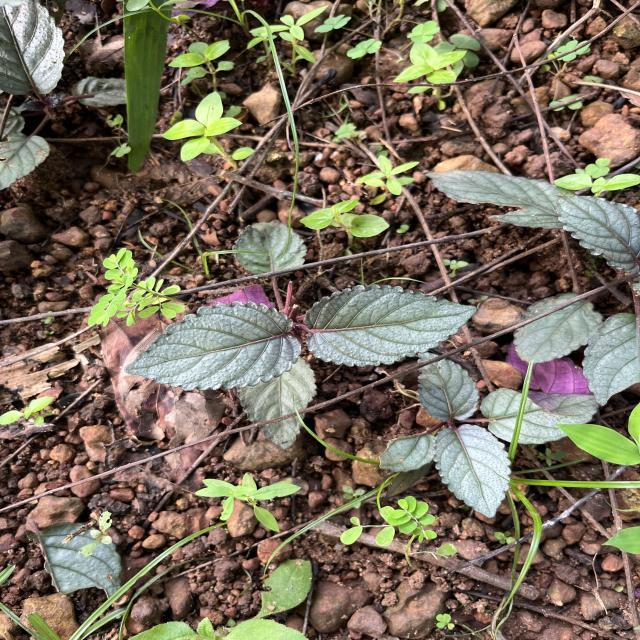Hemigraphis colorata: (122, 299, 304, 393), (300, 282, 480, 368), (431, 420, 514, 520), (549, 192, 640, 276), (414, 351, 482, 424)
